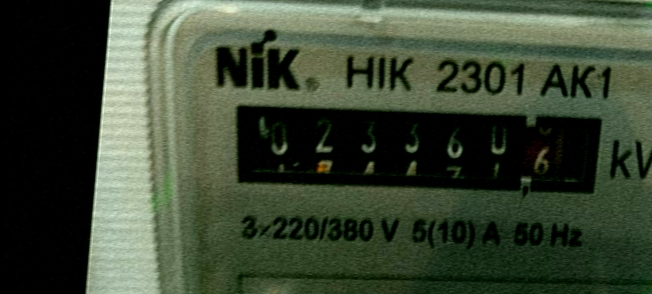0: (266, 115, 294, 159), (487, 119, 513, 157)
2: (310, 112, 340, 155)
3: (357, 115, 382, 156), (400, 116, 425, 156)
6: (441, 120, 471, 163), (532, 142, 556, 179)
screen: (209, 71, 619, 223)
